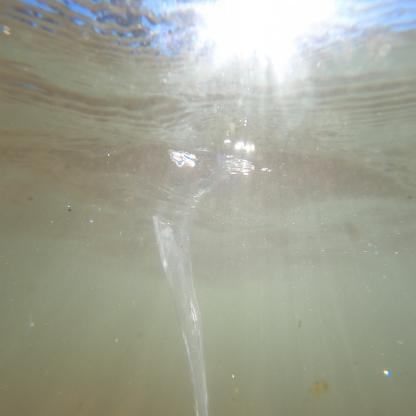Rác: (154, 218, 208, 416)
